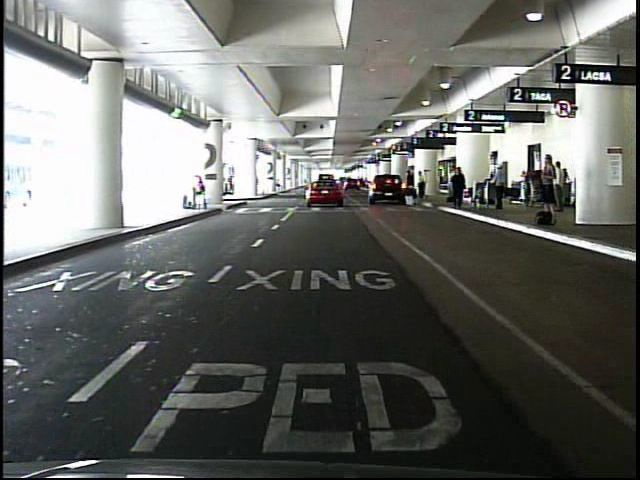person: (538, 152, 561, 213), (451, 167, 467, 210), (192, 173, 209, 213), (554, 162, 567, 213), (494, 164, 508, 211), (451, 165, 463, 204), (406, 168, 417, 208), (418, 169, 428, 199)
